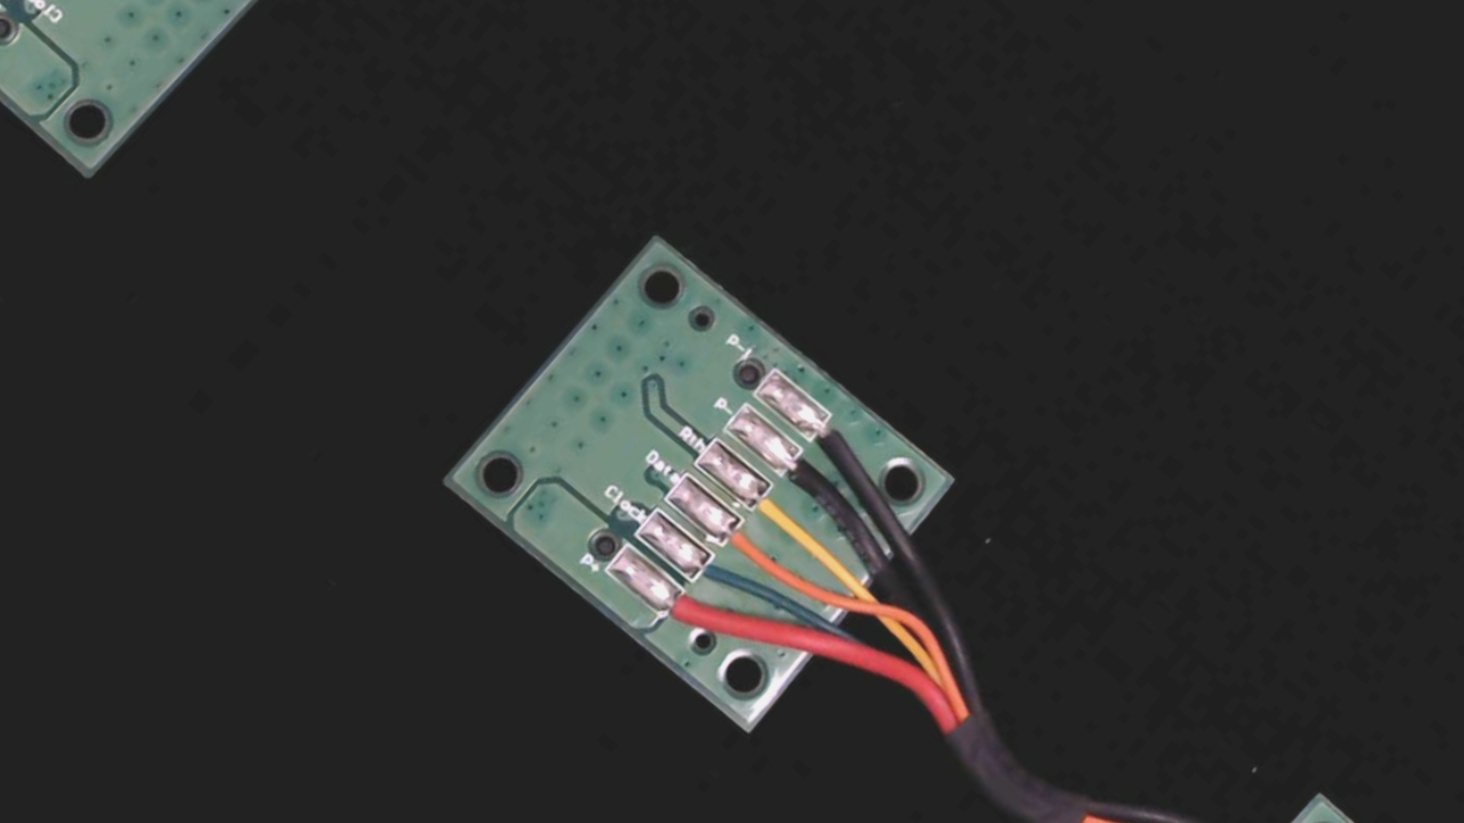Black: (763, 436, 856, 524)
Black1: (796, 401, 883, 482)
Green: (675, 538, 752, 612)
Orange: (705, 504, 795, 590)
Red: (643, 575, 734, 661)
Yellow: (733, 470, 827, 559)
